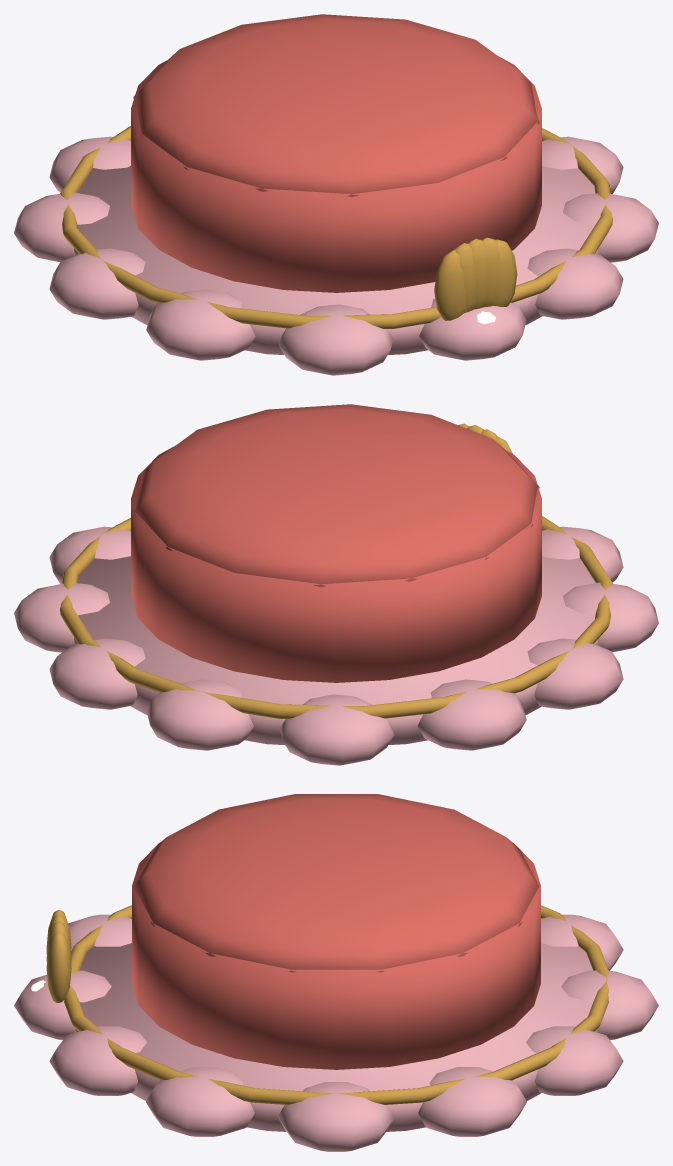
The model's file is opera_pastry_chef_layer_coral.glb.
3 renders of one model, top to bottom at view 1: azimuth 30°, elevation 25°; view 2: azimuth 150°, elevation 25°; view 3: azimuth 270°, elevation 25°, orthographic.
Parts seen in each view (by area): view 1: VisualMesh.001; view 2: VisualMesh.001; view 3: VisualMesh.001.
Part boxes in pixels (x1,y1,x2,y2): VisualMesh.001: [14, 14, 658, 375]; VisualMesh.001: [14, 404, 658, 765]; VisualMesh.001: [14, 794, 658, 1151].
Bounding box in the file's own units: 3.69 × 1.18 × 3.72.
